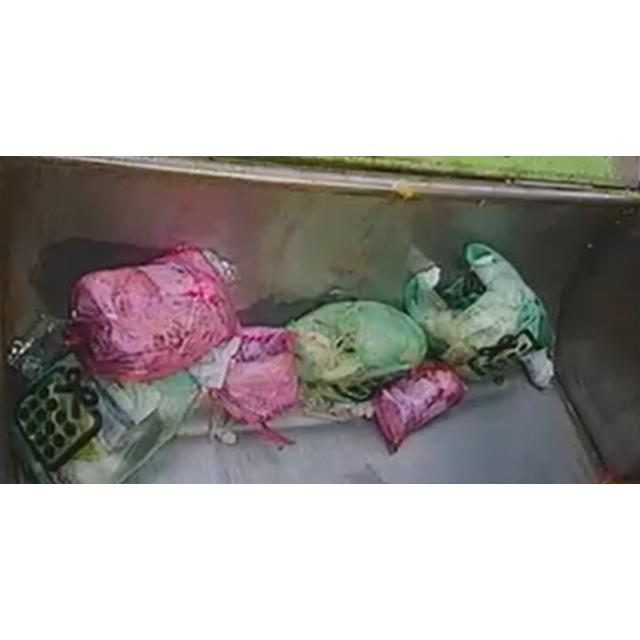general_trashbag: (12, 355, 199, 483), (405, 242, 554, 388), (289, 301, 428, 421)
other_trashbag: (69, 245, 240, 381), (372, 361, 465, 452), (216, 327, 298, 424)
